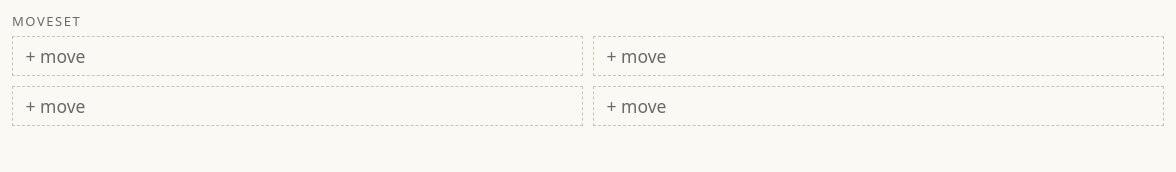
MovesetField › fills the first empty slot when a fully typed move name is left
The image size is (1176, 172).
Type "Tackle" into the 1st dropdown with placeholder "+ move" at {"x": 298, "y": 56}, box x1=12 y1=36 x2=583 y2=76
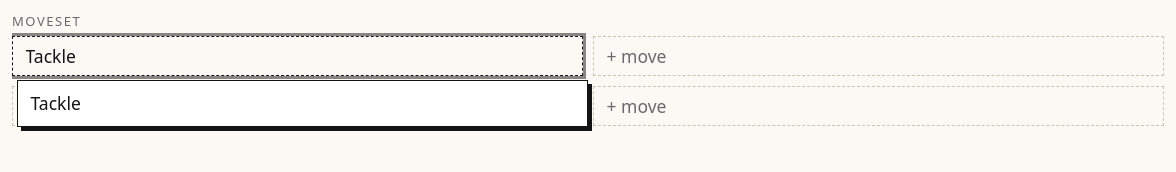
Press Tab
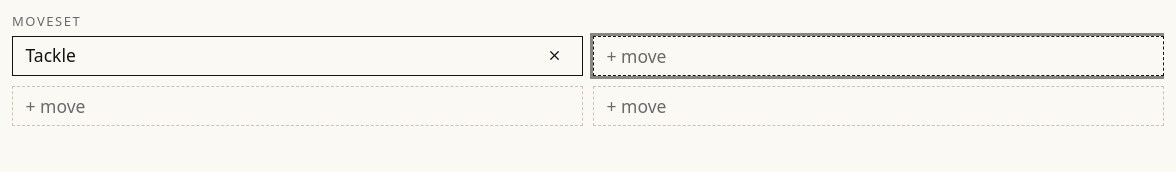
Result: the text "Tackle" is shown at x1=26 y1=43 x2=76 y2=68
Result: the number of dropdowns with placeholder "+ move" is 3 at x1=593 y1=36 x2=1164 y2=76; x1=12 y1=86 x2=583 y2=126; x1=593 y1=86 x2=1164 y2=126
